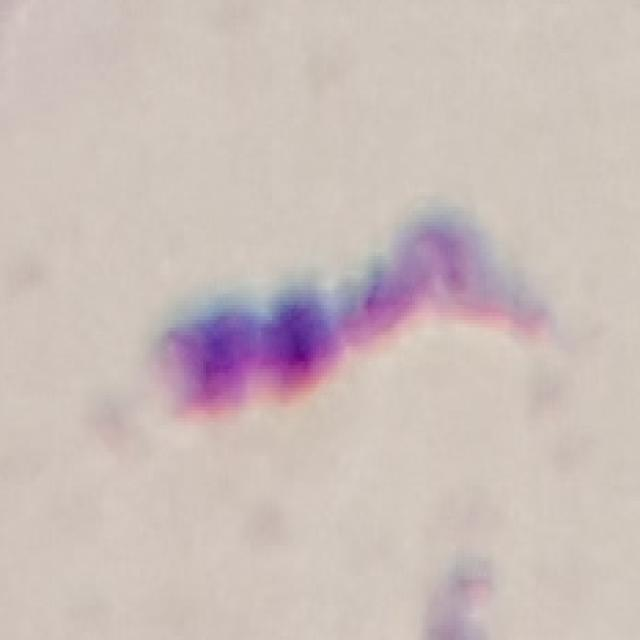non-sperm: (158, 211, 535, 419)
